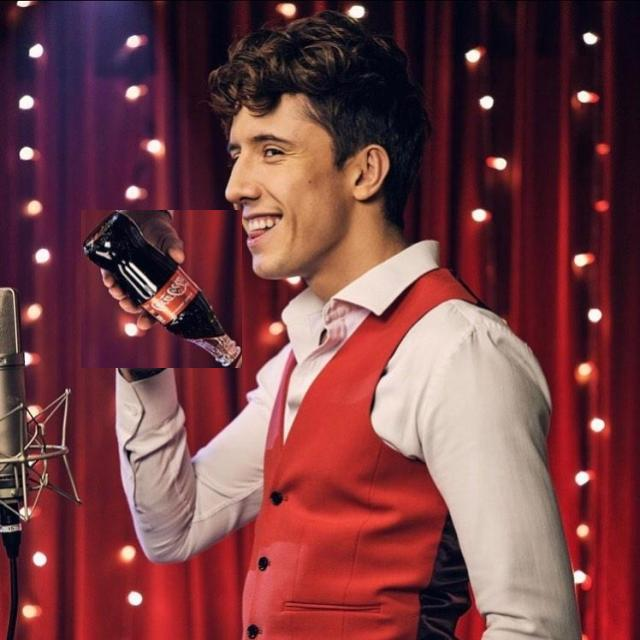coca-cola: (81, 210, 242, 368)
